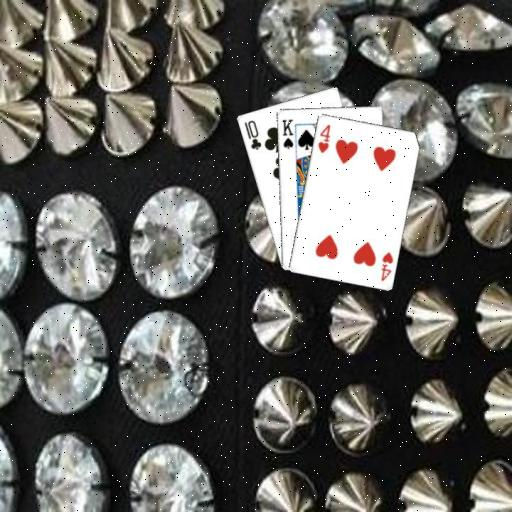10C: (241, 117, 263, 152)
4H: (315, 121, 332, 155), (378, 249, 395, 283)
KS: (279, 116, 295, 150)
